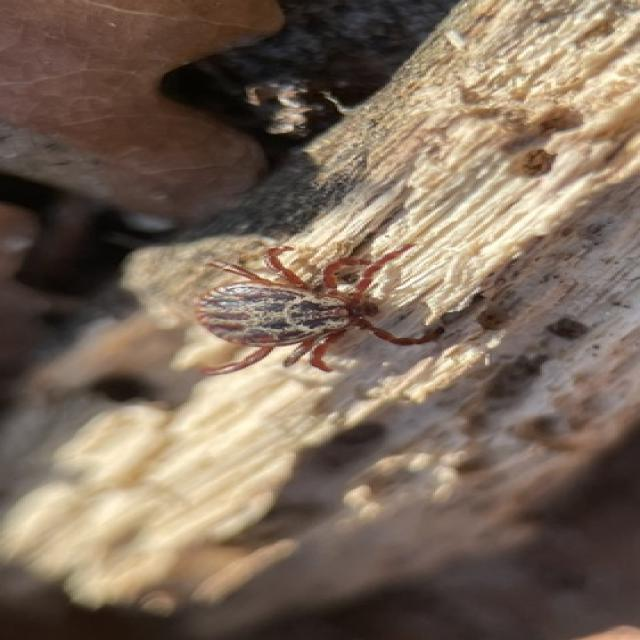Dermacentor Reticulatus-M: (194, 243, 442, 375)
